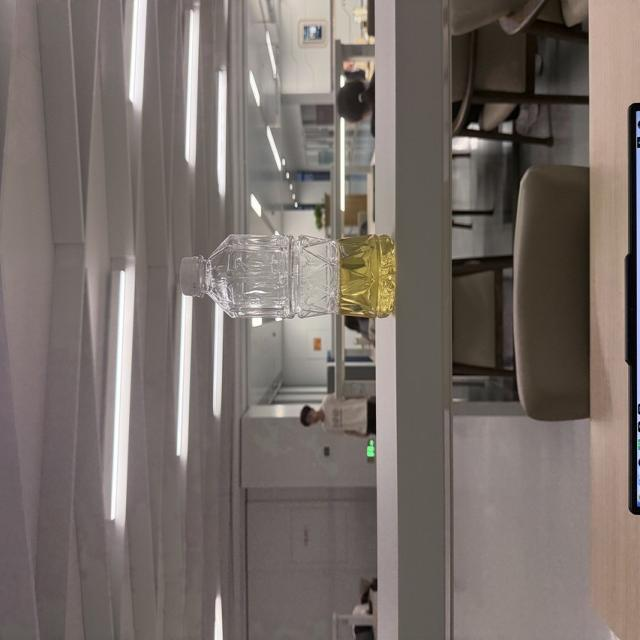low: (179, 234, 395, 318)
